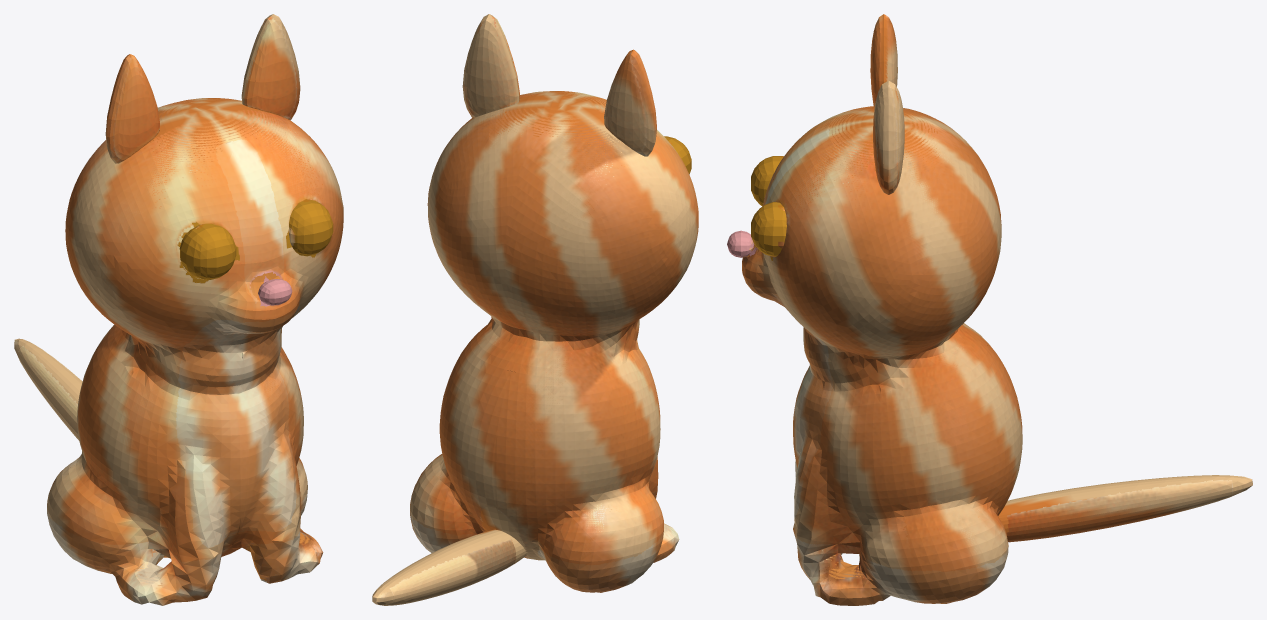
Rendered from figure.glb.
3 renders of one model, left to right at view 1: azimuth 30°, elevation 25°; view 2: azimuth 150°, elevation 25°; view 3: azimuth 270°, elevation 25°, orthographic. The views are drawn at different scales.
Parts seen in each view (by area): view 1: figure; view 2: figure; view 3: figure.
Part boxes in pixels (left/top/right/bottom): figure: left=14, top=14, right=343, bottom=605; figure: left=372, top=14, right=698, bottom=605; figure: left=727, top=14, right=1252, bottom=605.
Size of the model in its own units: 44.61 by 91.66 by 84.27.
Materials: 1 (1 with a texture image).
